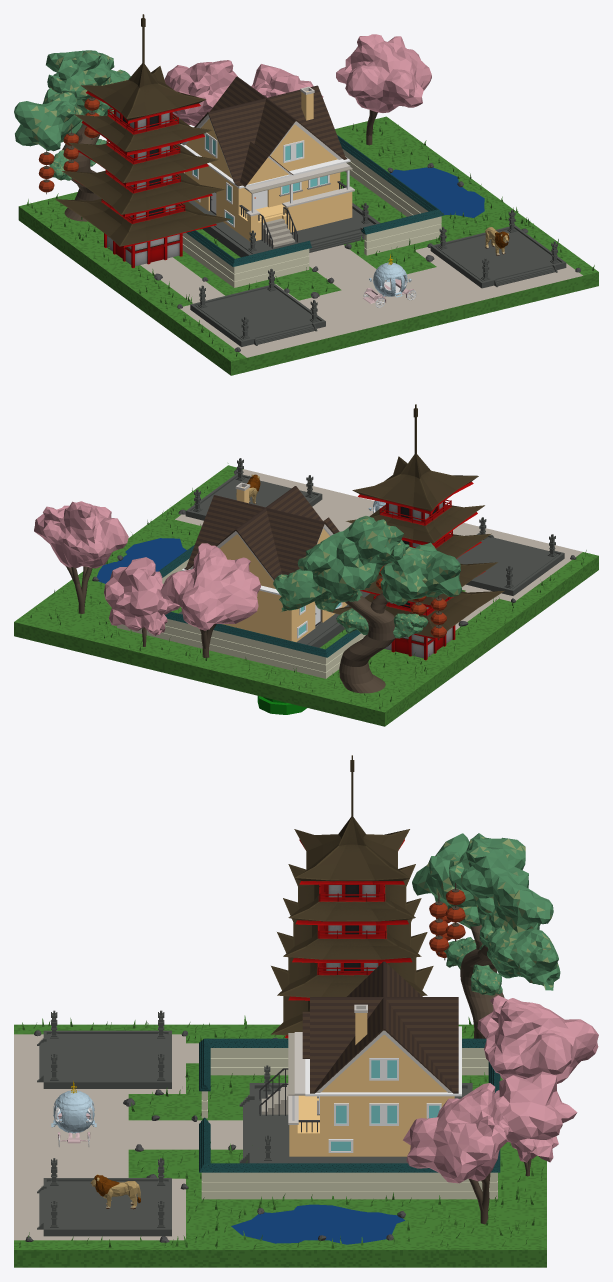
3 views of the same model, one above another, from view 1: azimuth 30°, elevation 25°; view 2: azimuth 150°, elevation 25°; view 3: azimuth 270°, elevation 25° (orthographic). The views are drawn at different scales.
Parts seen in each view (by area): view 1: Cube.005, Cube.235, VEHICLES_FANTASY_CARRIAGE; view 2: Cube.005, Cube.235, UNDERGROUND_PIPES; view 3: Cube.005, Cube.235, VEHICLES_FANTASY_CARRIAGE, ANIMAL_LEON.
Part boxes in pixels (x1,y1,x2,y2): Cube.005: (14, 14, 598, 375); Cube.235: (179, 76, 354, 248); VEHICLES_FANTASY_CARRIAGE: (363, 254, 416, 307); Cube.005: (14, 404, 598, 726); Cube.235: (181, 482, 347, 642); UNDERGROUND_PIPES: (257, 696, 306, 714); Cube.005: (14, 755, 598, 1267); Cube.235: (259, 961, 461, 1156); VEHICLES_FANTASY_CARRIAGE: (51, 1081, 96, 1147); ANIMAL_LEON: (90, 1174, 140, 1209).
Size of the model in its own units: 4528 by 3273 by 4389.
Materials: 34 (5 with a texture image).
